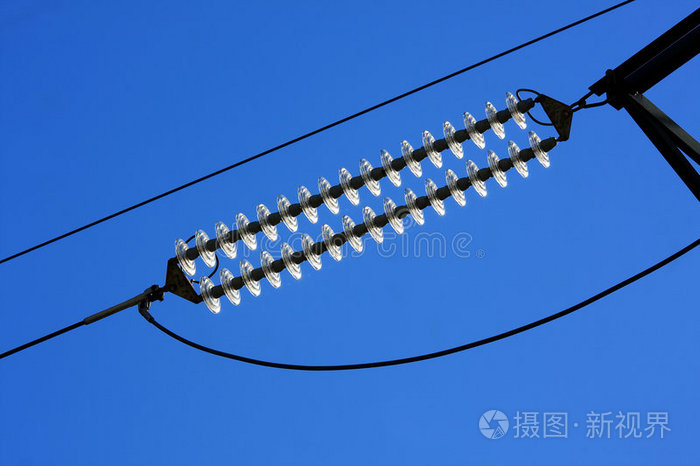insulator: (174, 91, 551, 312)
